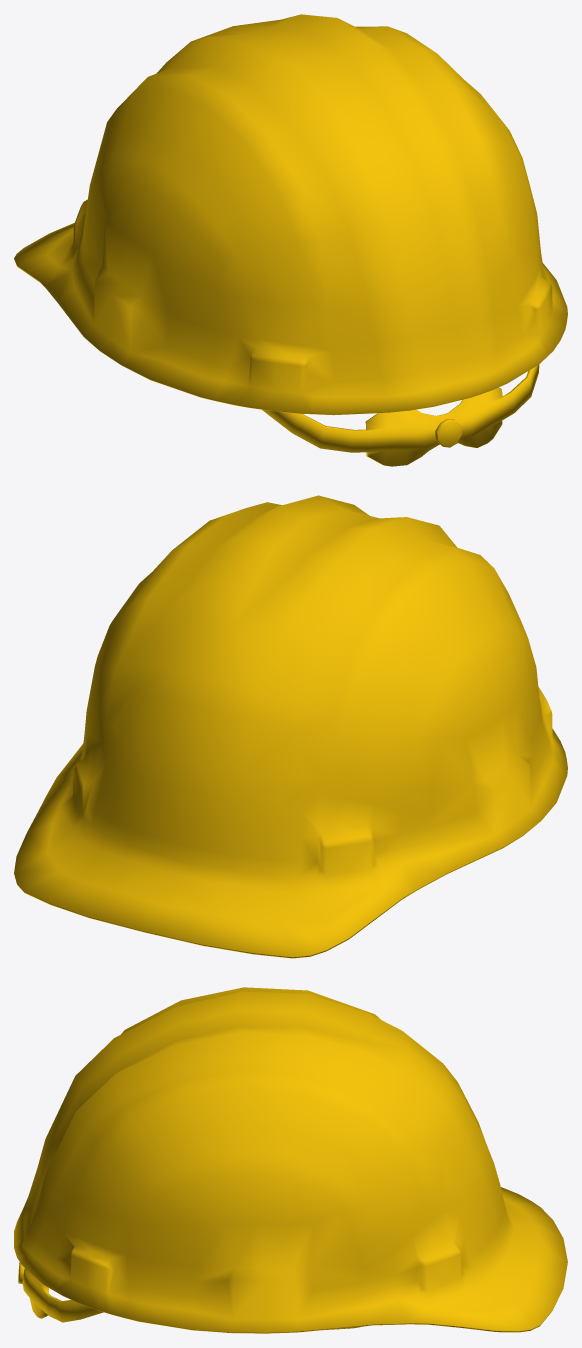
File: SM_Safety_Helmet.fbx
3 views of the same model, one above another, from view 1: azimuth 30°, elevation 25°; view 2: azimuth 150°, elevation 25°; view 3: azimuth 270°, elevation 25° (orthographic). The views are drawn at different scales.
Parts seen in each view (by area): view 1: SM_Safety_Helmet; view 2: SM_Safety_Helmet; view 3: SM_Safety_Helmet.
Part boxes in pixels (x1=…): SM_Safety_Helmet: x1=14, y1=14, x2=567, y2=466; SM_Safety_Helmet: x1=14, y1=495, x2=567, y2=958; SM_Safety_Helmet: x1=14, y1=987, x2=567, y2=1333.
Bounding box in the file's own units: 0.2025 × 0.2555 × 0.145.
